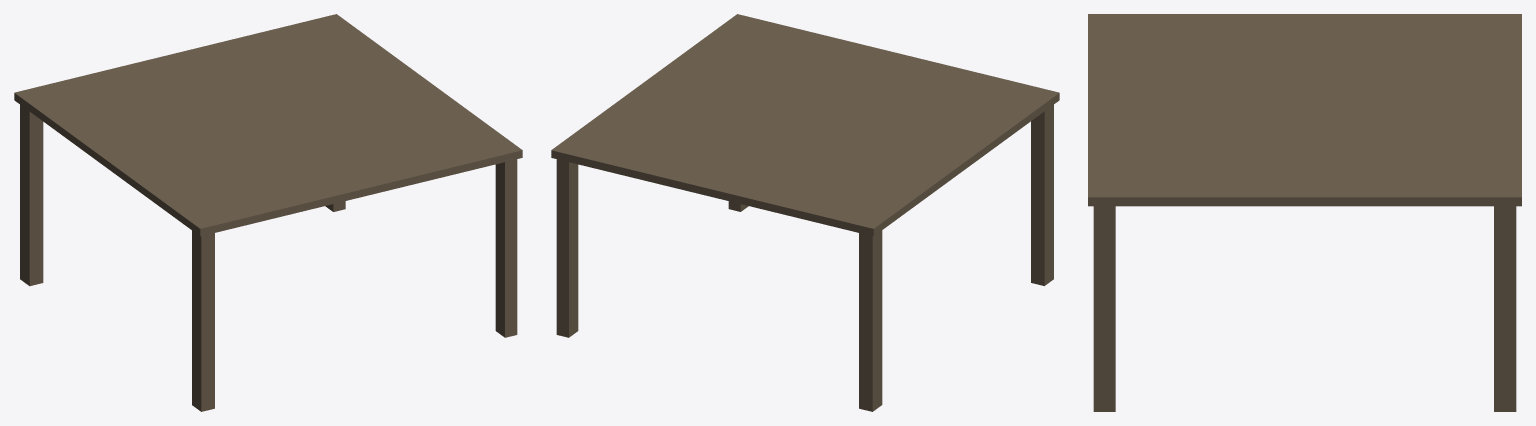
The model's file is Table.fbx.
3 renders of one model, left to right at view 1: azimuth 30°, elevation 25°; view 2: azimuth 150°, elevation 25°; view 3: azimuth 270°, elevation 25°, orthographic. The views are drawn at different scales.
Parts seen in each view (by area): view 1: Table; view 2: Table; view 3: Table.
Boxes of the visible parts, <box> form: Table: <box>14,14,522,411</box>; Table: <box>551,14,1059,411</box>; Table: <box>1088,14,1521,411</box>.
Bounding box in the file's own units: 1.82 × 1 × 1.82.
